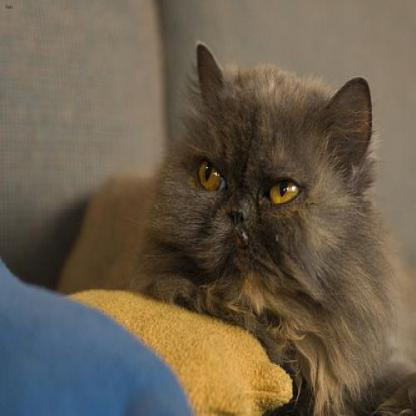cat: (152, 44, 409, 400)
